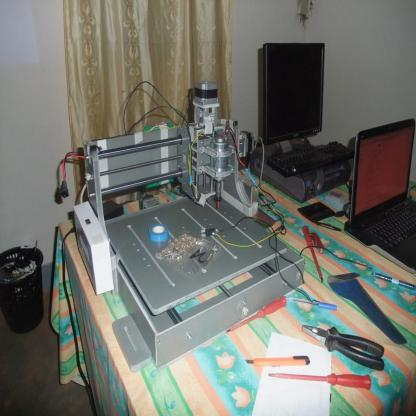board: (346, 117, 416, 277), (302, 323, 386, 372), (226, 294, 286, 334), (267, 374, 372, 389), (302, 226, 324, 284), (245, 355, 310, 367), (312, 232, 324, 252)
